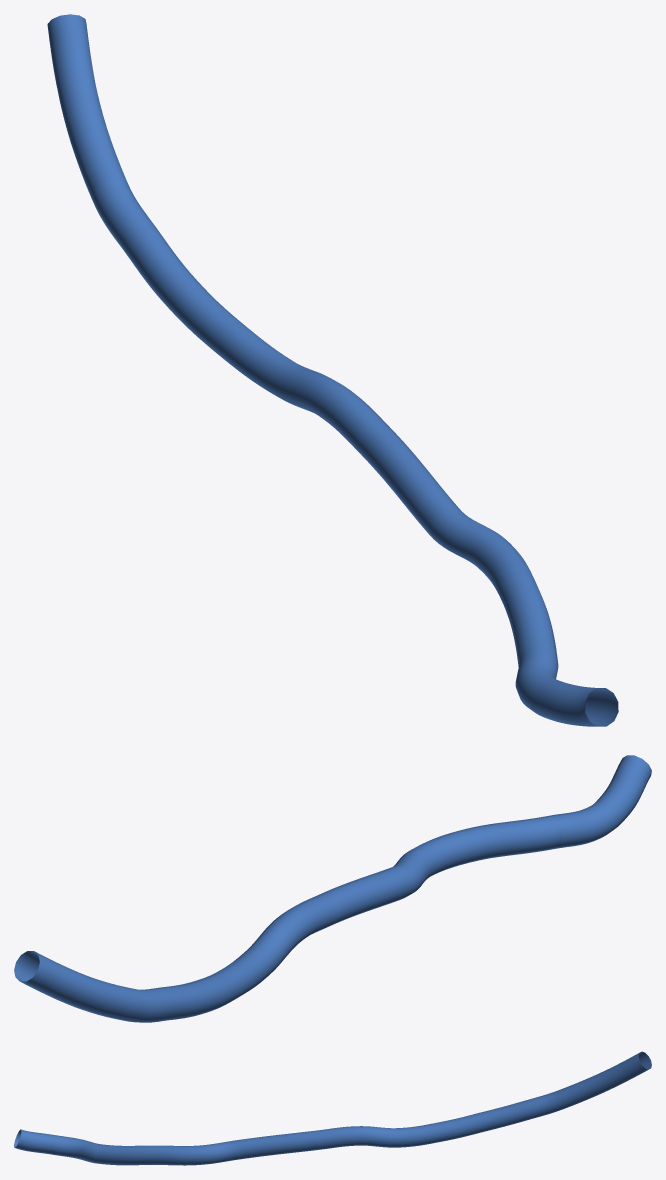
3 renders of one model, top to bottom at view 1: azimuth 30°, elevation 25°; view 2: azimuth 150°, elevation 25°; view 3: azimuth 270°, elevation 25°, orthographic. The views are drawn at different scales.
Visible parts, largest first — view 1: 左侧股静脉; view 2: 左侧股静脉; view 3: 左侧股静脉.
Boxes of the visible parts, x1=… form: 左侧股静脉: x1=47, y1=14, x2=618, y2=726; 左侧股静脉: x1=14, y1=755, x2=651, y2=1022; 左侧股静脉: x1=14, y1=1051, x2=651, y2=1165.
Bounding box in the file's own units: 0.0582 × 0.1049 × 0.4718.
